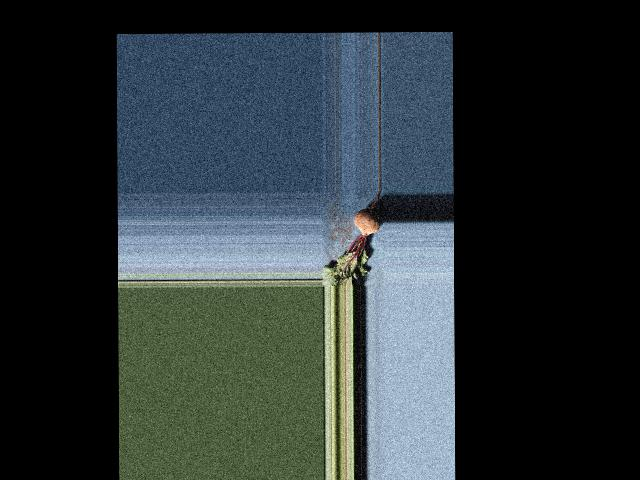beet: (321, 191, 381, 287)
